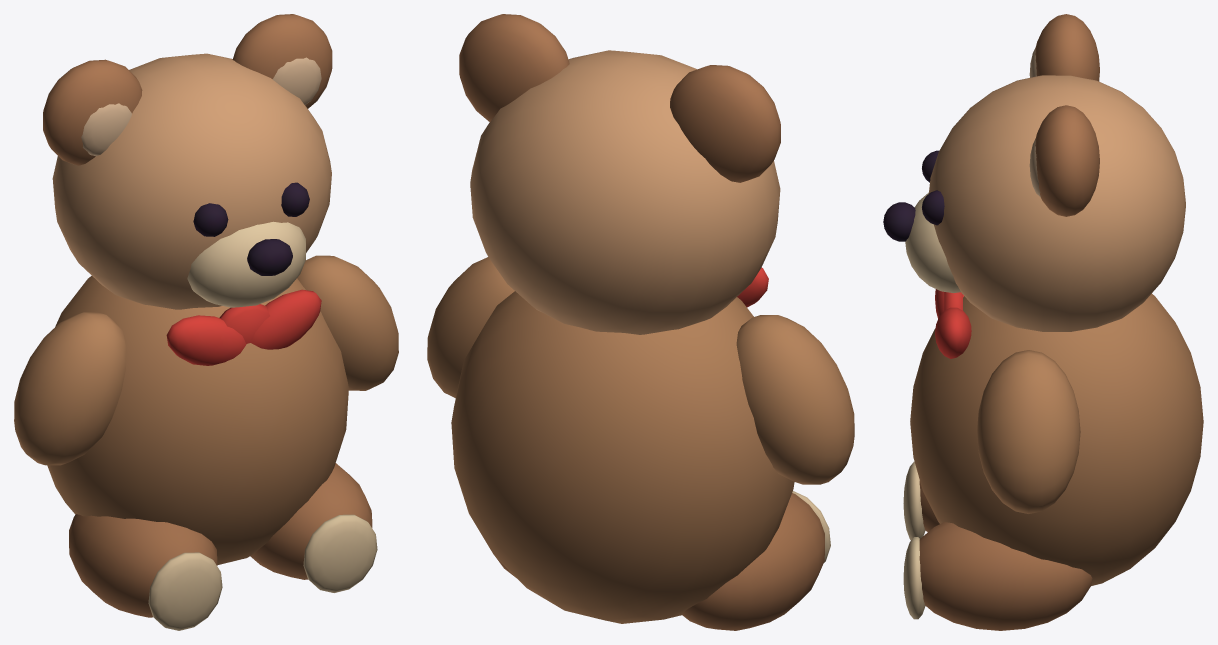
Rendered from decor-teddy.glb.
3 views of the same model, side by side, from view 1: azimuth 30°, elevation 25°; view 2: azimuth 150°, elevation 25°; view 3: azimuth 270°, elevation 25° (orthographic). The views are drawn at different scales.
Visible parts, largest first — view 1: decor-teddy; view 2: decor-teddy; view 3: decor-teddy.
Boxes of the visible parts, box(x1,y1,x2,y2) form: decor-teddy: box(14, 14, 398, 630); decor-teddy: box(427, 14, 854, 630); decor-teddy: box(883, 14, 1203, 630).
Bounding box in the file's own units: 0.9136 × 1.23 × 0.6828.
